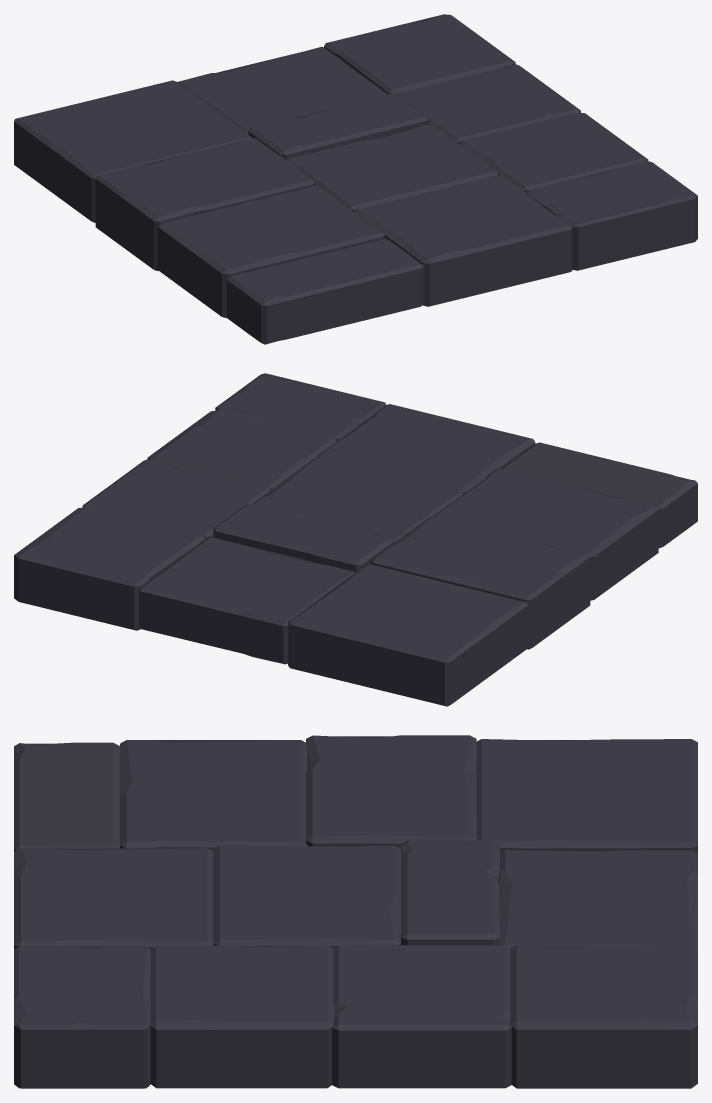
File: floor_modular_normalized.glb
The picture shows the model from 3 angles, top to bottom: view 1: azimuth 30°, elevation 25°; view 2: azimuth 150°, elevation 25°; view 3: azimuth 270°, elevation 25°; orthographic projection. The views are drawn at different scales.
Parts seen in each view (by area): view 1: Floor_Modular; view 2: Floor_Modular; view 3: Floor_Modular.
Boxes of the visible parts, left/top/right/bottom form: Floor_Modular: left=14, top=14, right=697, bottom=344; Floor_Modular: left=14, top=373, right=697, bottom=706; Floor_Modular: left=14, top=735, right=697, bottom=1088.
Size of the model in its own units: 2 by 0.2503 by 2.
Materials: 1 (1 with a texture image).
